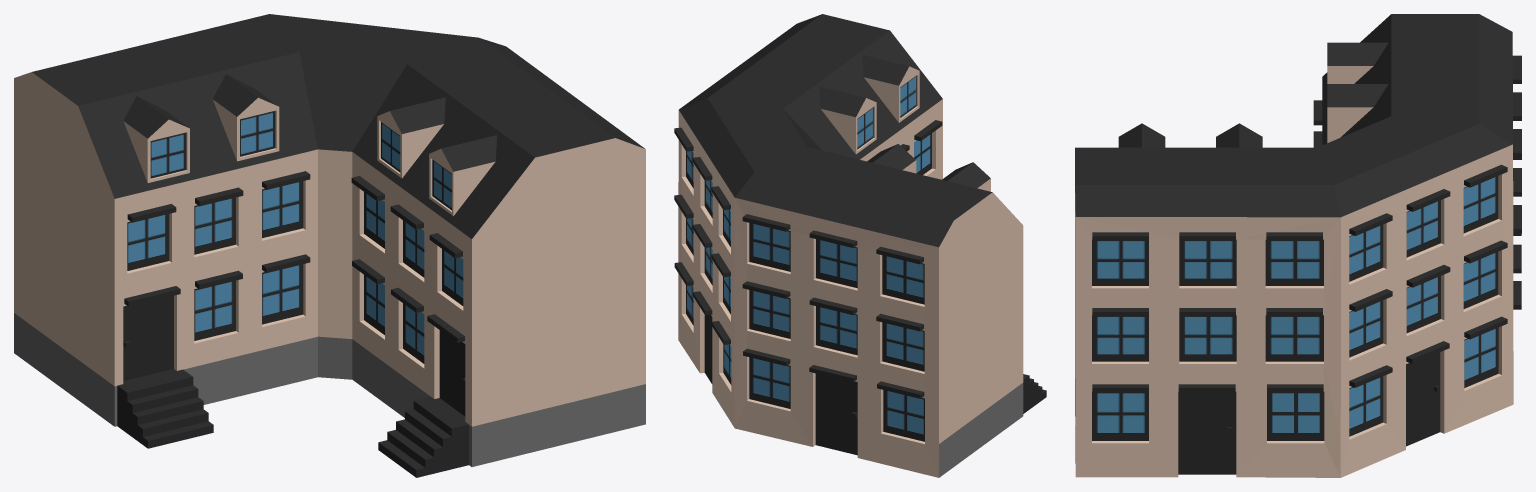
Rendered from AngleBeige.obj.
3 renders of one model, left to right at view 1: azimuth 30°, elevation 25°; view 2: azimuth 150°, elevation 25°; view 3: azimuth 270°, elevation 25°, orthographic. The views are drawn at different scales.
Visible parts, largest first — view 1: rogBezowy; view 2: rogBezowy; view 3: rogBezowy.
Part boxes in pixels (x1,y1,x2,y2): rogBezowy: (14,14,645,477); rogBezowy: (674,14,1046,477); rogBezowy: (1075,14,1521,477).
Bounding box in the file's own units: 11.75 × 8.07 × 11.74.
